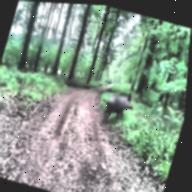boar: (95, 85, 139, 132), (0, 90, 5, 135)
